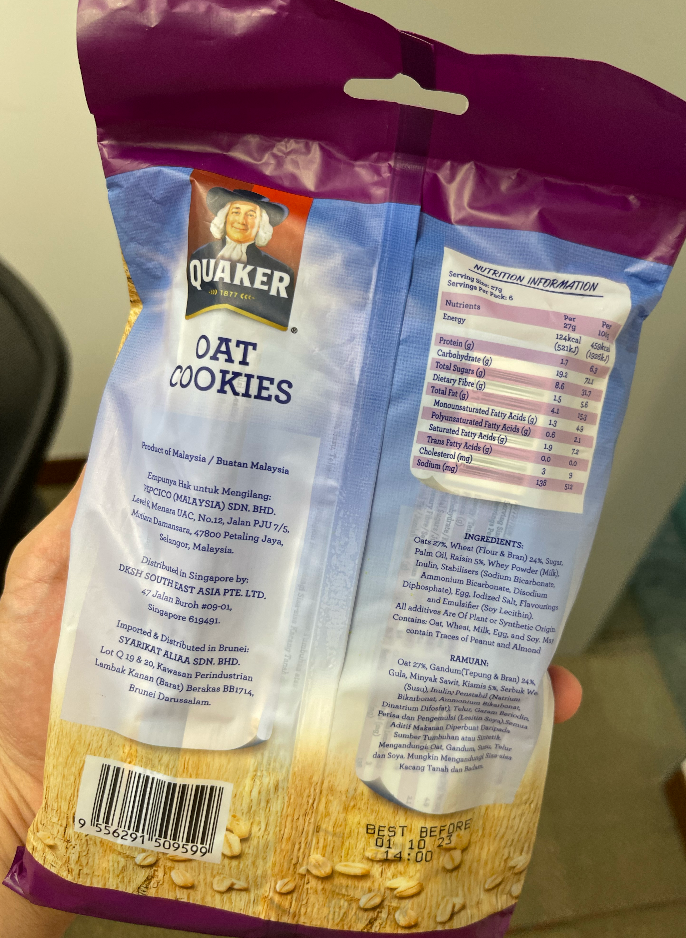cookies_100g-199g: (108, 154, 558, 889)
